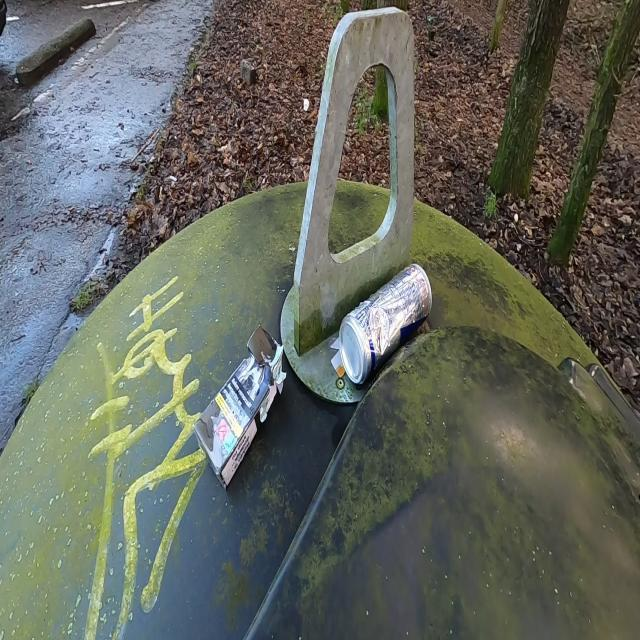Can-Metal: (336, 259, 434, 387)
Paper: (191, 321, 287, 492), (302, 96, 310, 112)
Plastic: (328, 336, 346, 378)
